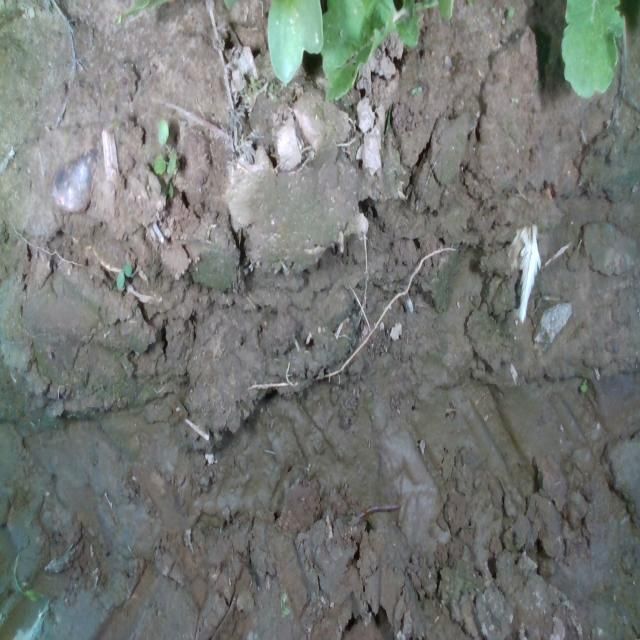weed: (114, 258, 132, 292)
